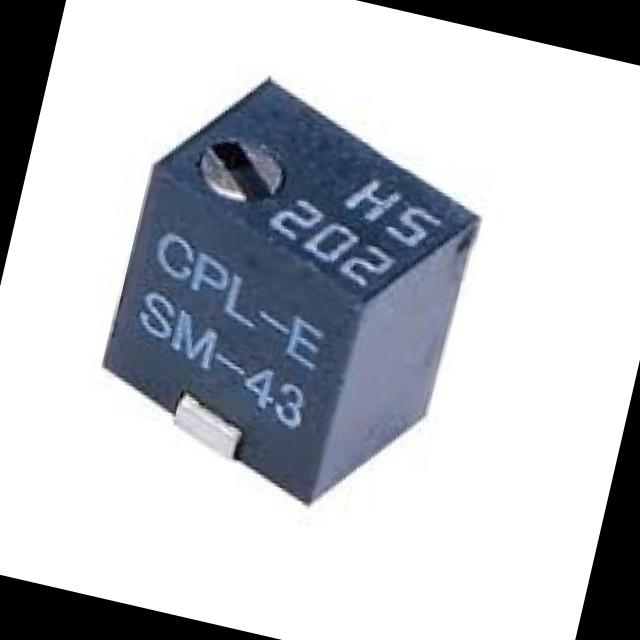potentiometer: (74, 21, 506, 548)
